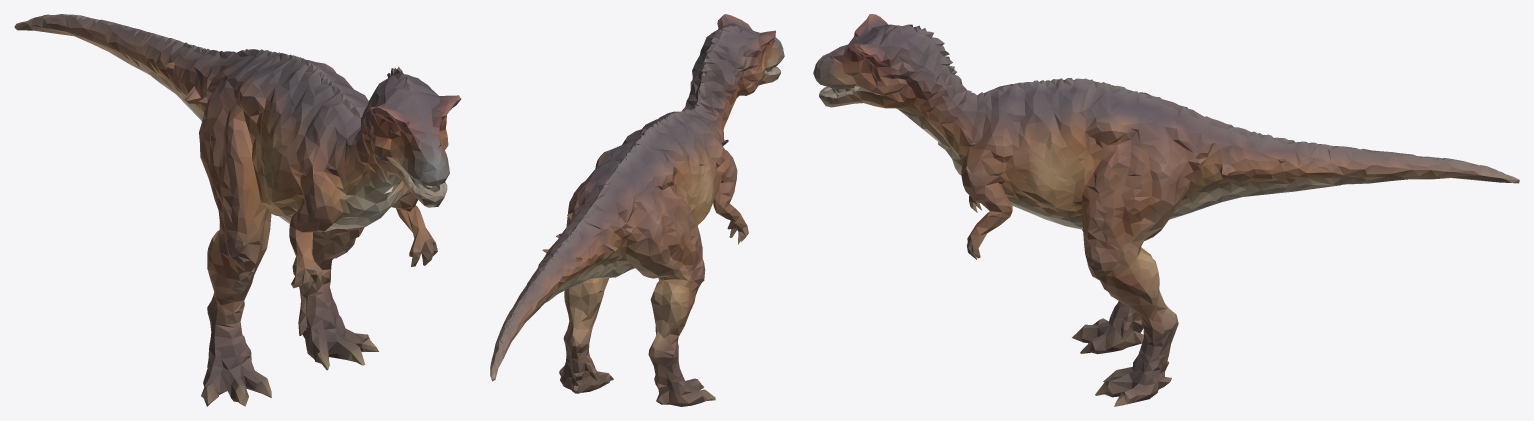
Rendered from carnotaurus.glb.
The picture shows the model from 3 angles, left to right: view 1: azimuth 30°, elevation 25°; view 2: azimuth 150°, elevation 25°; view 3: azimuth 270°, elevation 25°; orthographic projection. The views are drawn at different scales.
Parts seen in each view (by area): view 1: dino; view 2: dino; view 3: dino.
Part boxes in pixels (x1,y1,x2,y2): dino: [14, 14, 461, 406]; dino: [490, 14, 784, 406]; dino: [813, 14, 1519, 406].
Size of the model in its own units: 0.2658 by 0.5374 by 0.9982.
